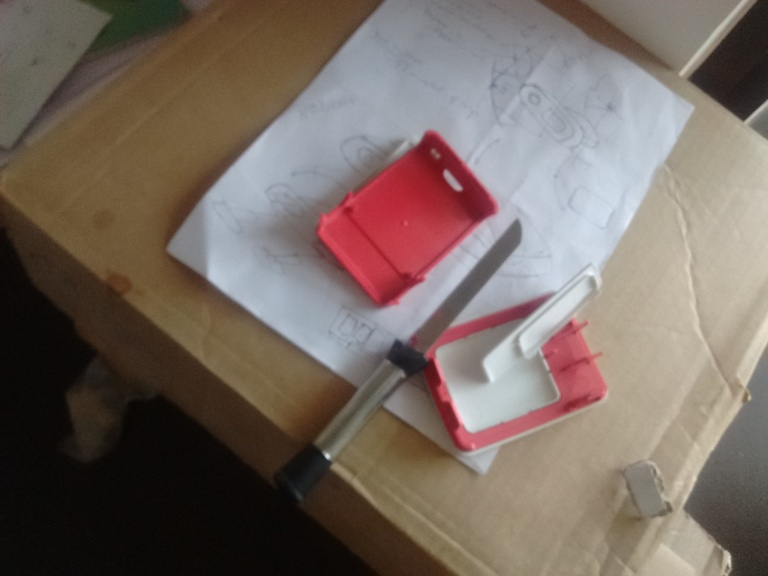knife: (272, 213, 527, 514)
